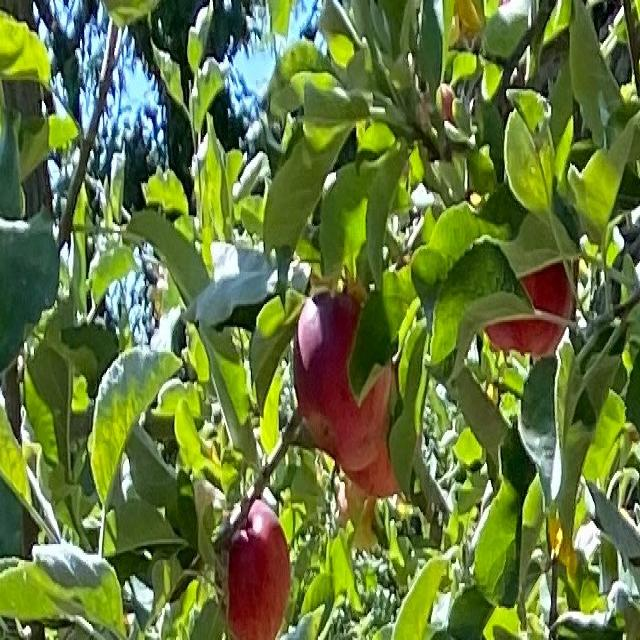100-_ripeness: (295, 292, 392, 460), (215, 498, 291, 640), (486, 252, 580, 354), (346, 364, 404, 496)
